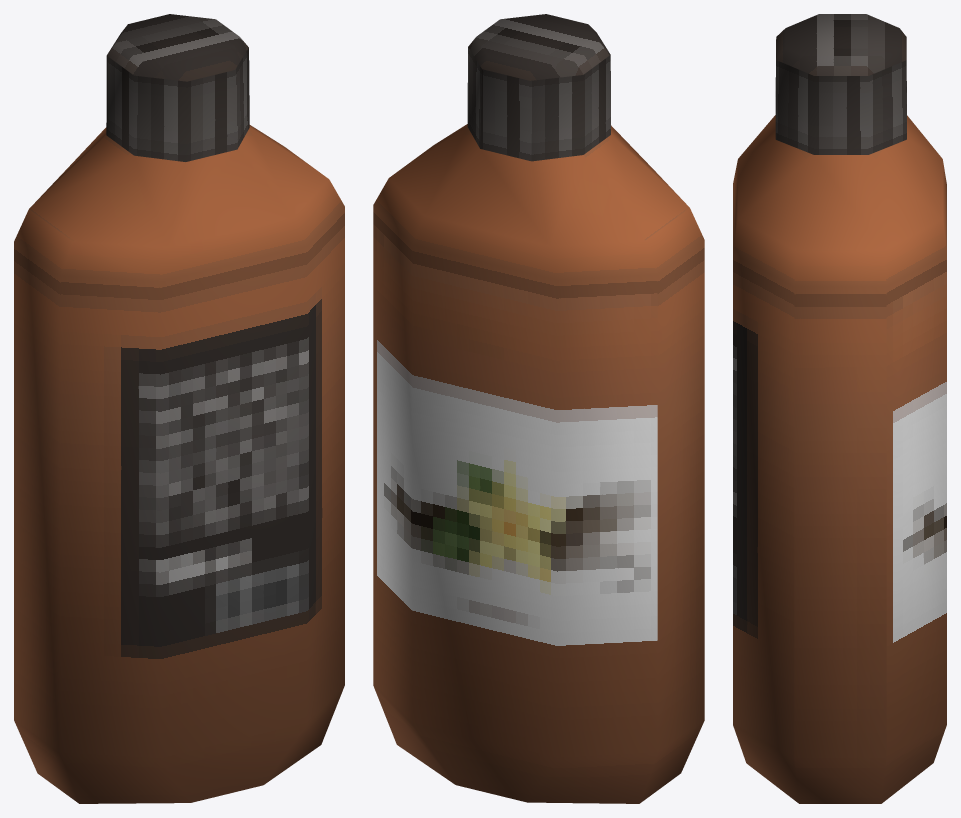
The model's file is AL_VanillaExtract.fbx.
3 views of the same model, side by side, from view 1: azimuth 30°, elevation 25°; view 2: azimuth 150°, elevation 25°; view 3: azimuth 270°, elevation 25° (orthographic).
Parts seen in each view (by area): view 1: BBQStarterFluid; view 2: BBQStarterFluid; view 3: BBQStarterFluid.
Part boxes in pixels (x1,y1,x2,y2): BBQStarterFluid: [14, 14, 344, 803]; BBQStarterFluid: [373, 14, 704, 803]; BBQStarterFluid: [733, 14, 946, 803].
Size of the model in its own units: 0.0733 by 0.2676 by 0.1108.
